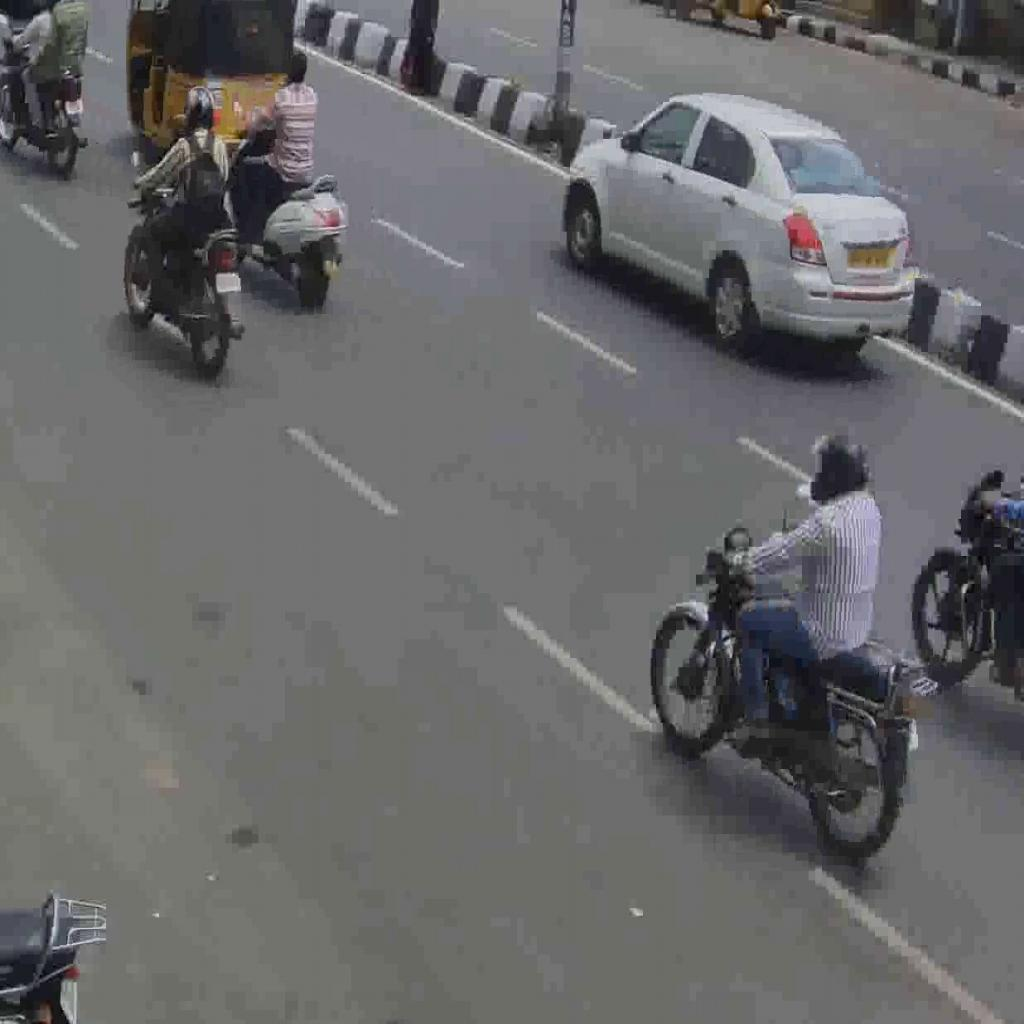helmet: (649, 524, 924, 861), (123, 165, 245, 377), (227, 105, 349, 307), (0, 30, 90, 172)
